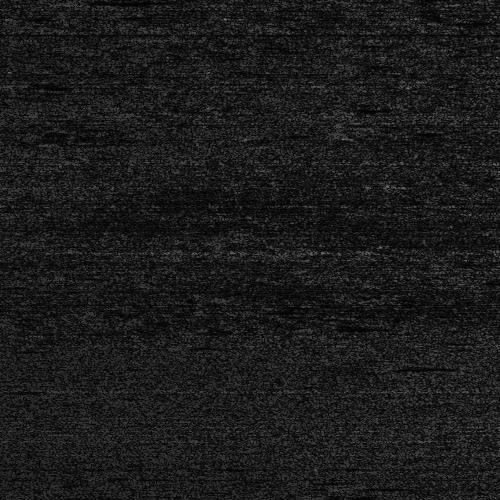rock: (62, 0, 83, 10)
shadow: (73, 0, 90, 10)
